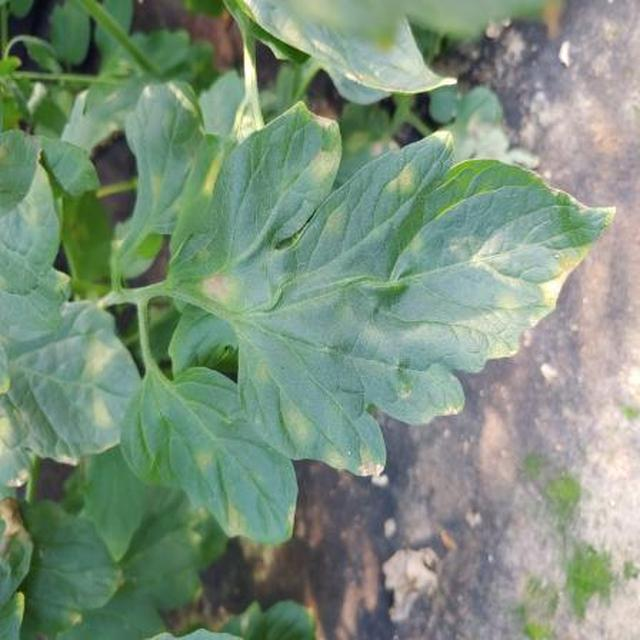Leaf Mold: (102, 260, 637, 640)
